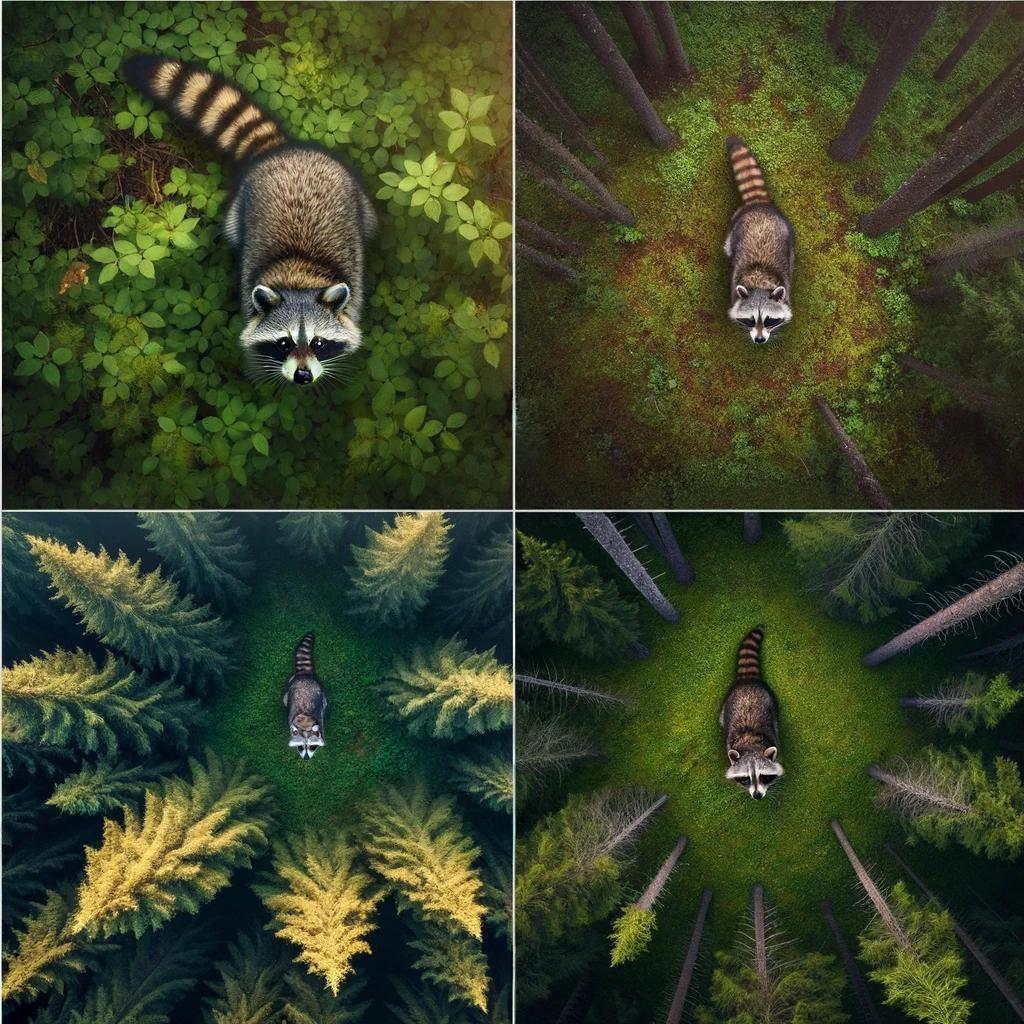raccoon: (115, 43, 395, 397), (712, 130, 808, 360), (702, 613, 803, 812), (273, 623, 338, 767)
